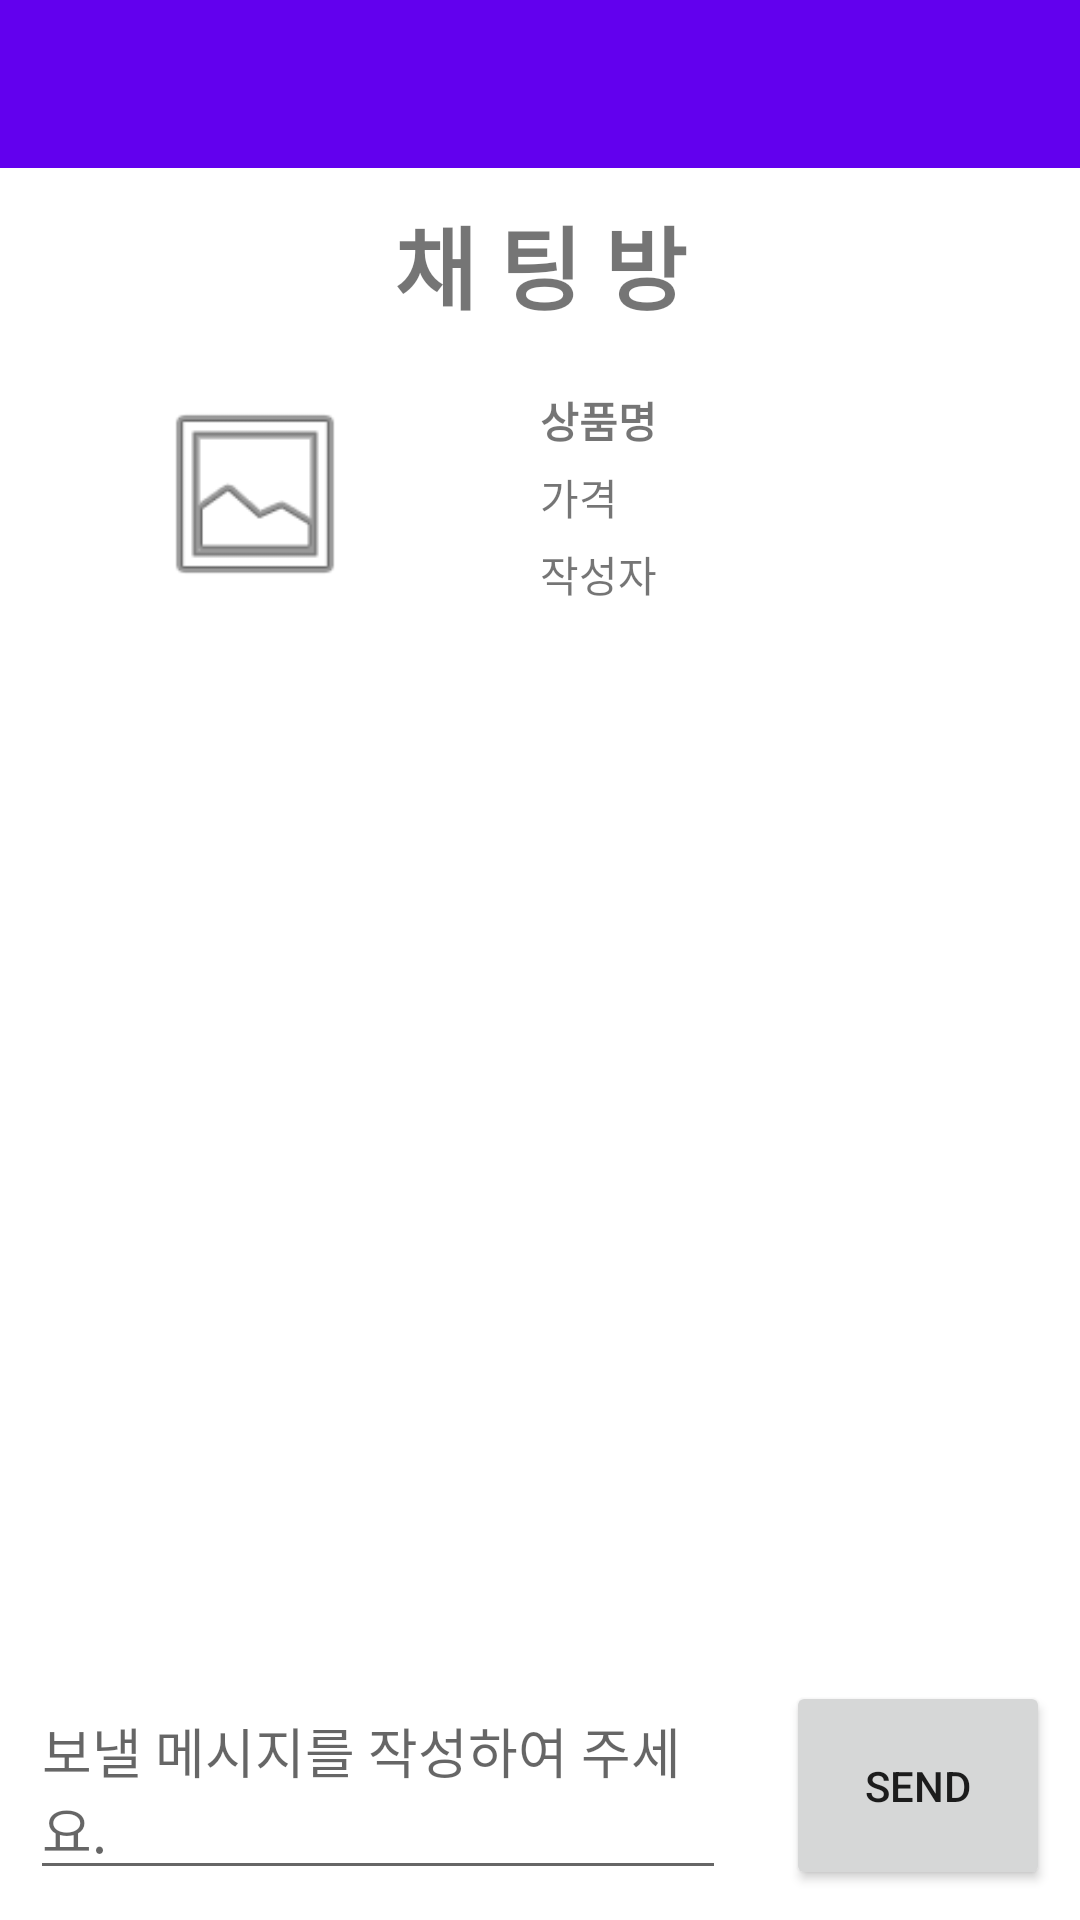

Screen size 1080w x 1920h. Icon name, then its center in pixels as [x,y]:
gallery: [255,494]
